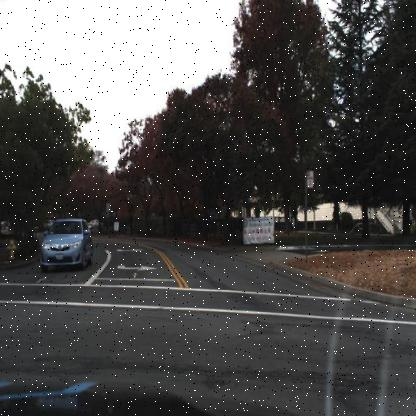car: (38, 218, 93, 273)
